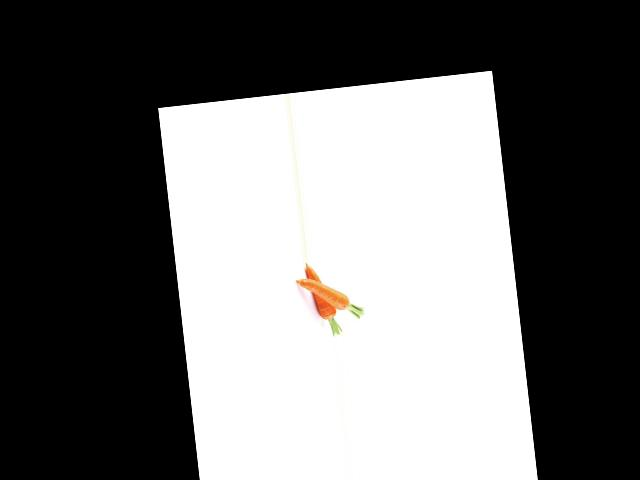carrot: (307, 261, 335, 330)
